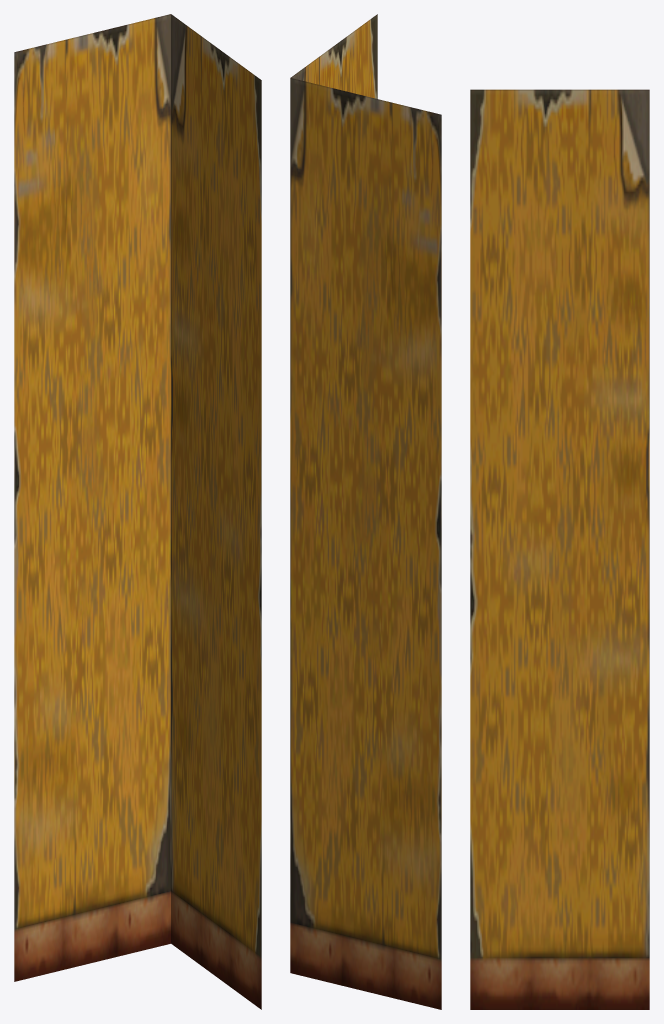
Rendered from W_A1_Eckverschluß [Gelb]_2300.glb.
3 views of the same model, side by side, from view 1: azimuth 30°, elevation 25°; view 2: azimuth 150°, elevation 25°; view 3: azimuth 270°, elevation 25° (orthographic). The views are drawn at different scales.
Parts seen in each view (by area): view 1: pPlaneShape7; view 2: pPlaneShape7; view 3: pPlaneShape7.
Part boxes in pixels (box(x1,y1,x2,y2)): pPlaneShape7: box(14, 14, 261, 1009); pPlaneShape7: box(290, 14, 441, 1009); pPlaneShape7: box(470, 89, 649, 1009).
Size of the model in its own units: 0.0615 by 0.3486 by 0.0615.
1 material, 1 textured.
